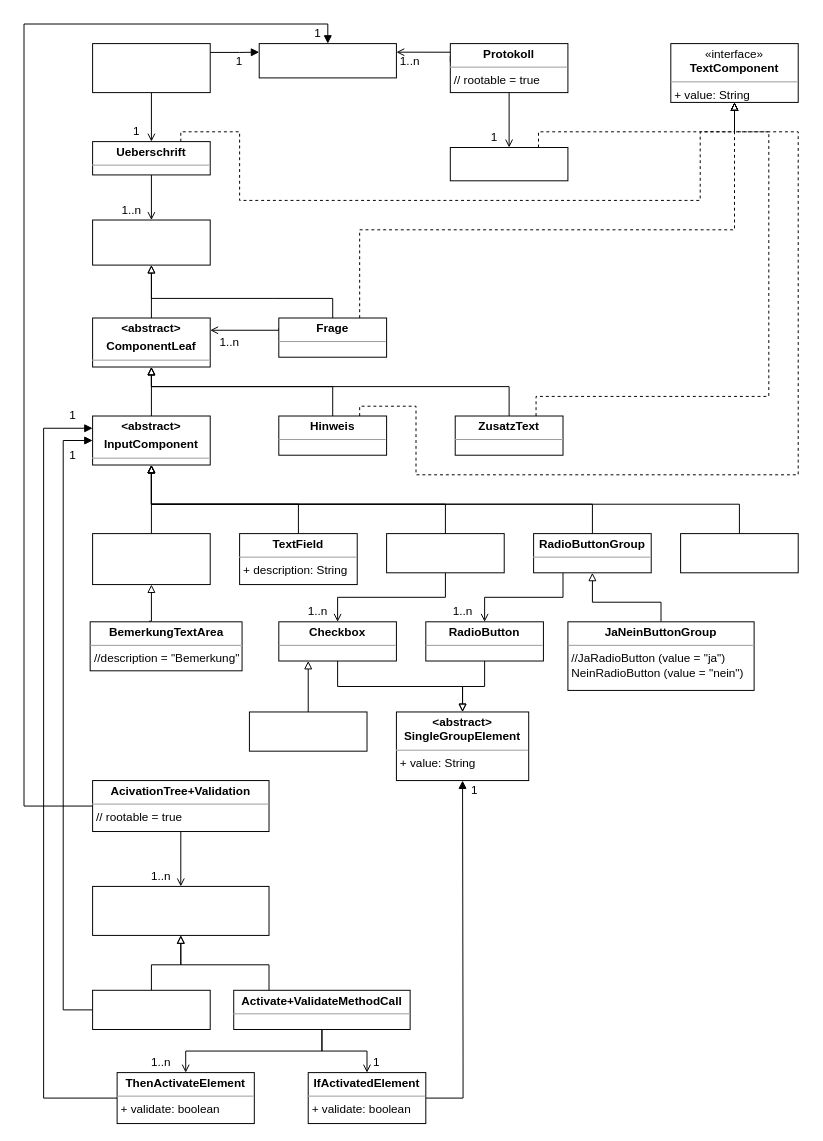
Image size: 823x1141. Some labels were removed from this diagram. The centre of each missing label's shape, as x and y in pixels:
<abstract> Component: pixel 151 242
<abstract> ValidateMethod: pixel 180 910
CheckBoxGroup: pixel 445 553
ProtokollPart // rootable = true: pixel 151 68
ProtokollPartName: pixel 327 60
Tabelle: pixel 739 553
TextArea + description: String: pixel 151 559
TextFieldCheckBox: pixel 307 731
Titel: pixel 508 164
ValidateMethodCall: pixel 151 1009
